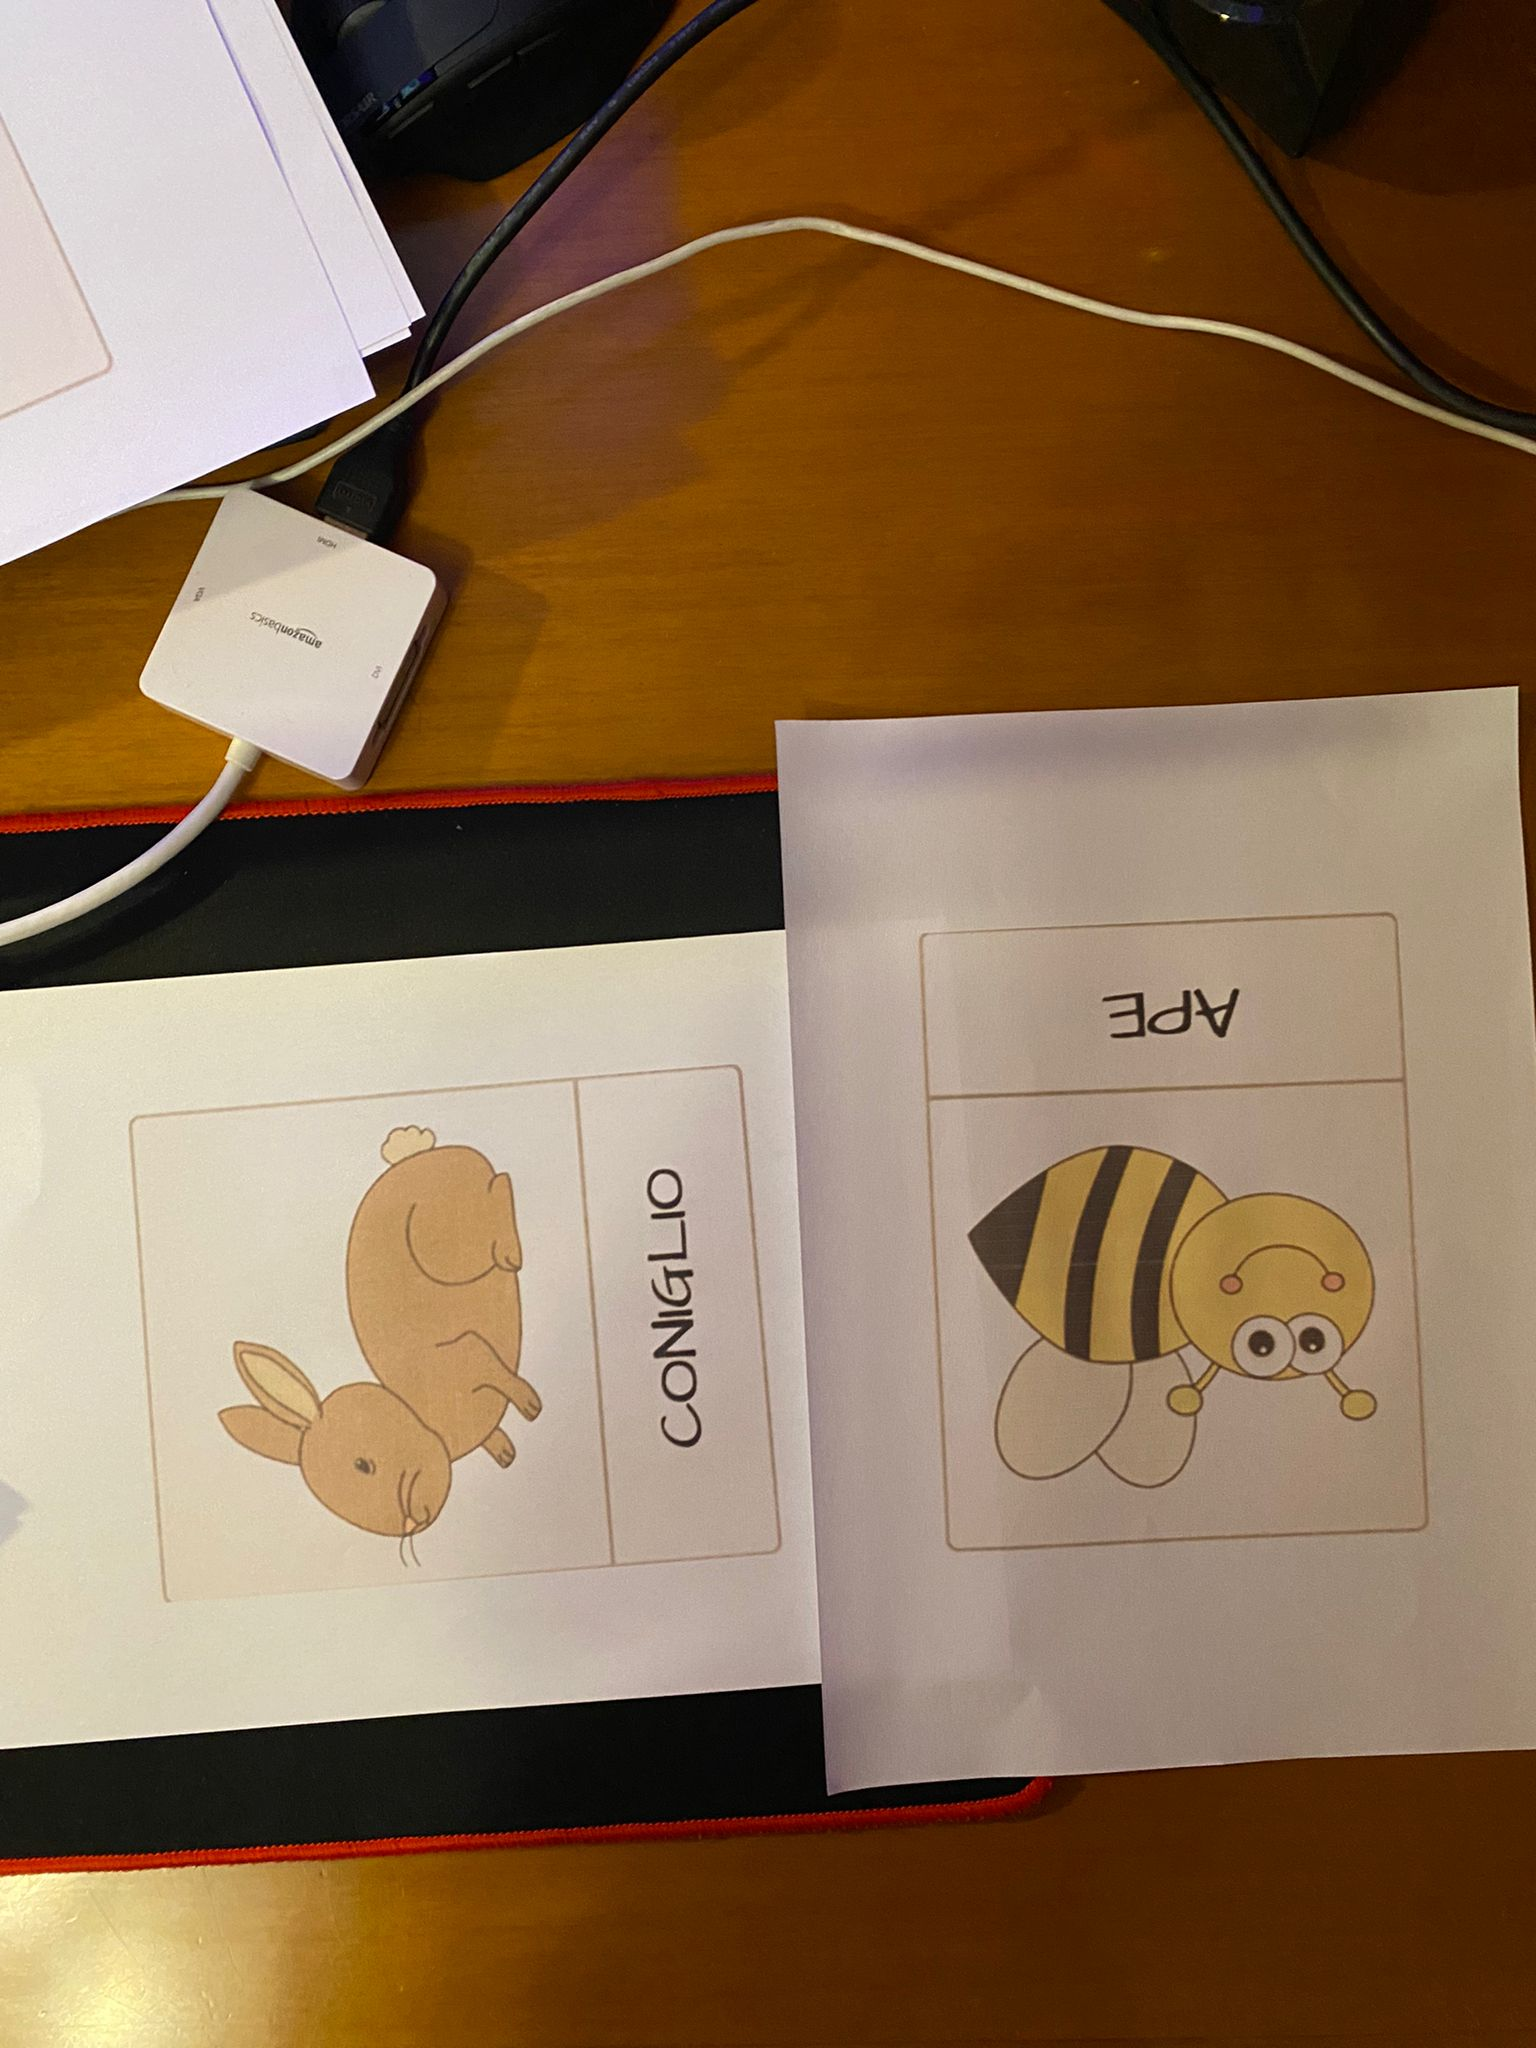ape: (916, 930, 1425, 1534)
coniglio: (129, 1109, 771, 1558)
